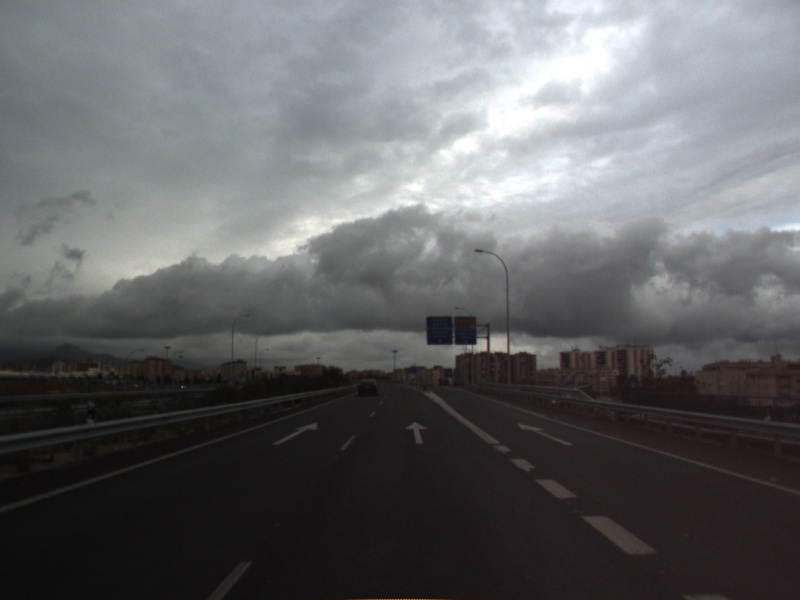STRAIGHT: (515, 421, 575, 448), (271, 420, 319, 447), (403, 419, 430, 446)
